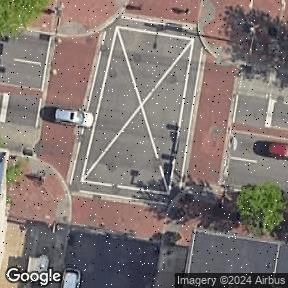vegetation: (0, 0, 47, 36), (5, 161, 22, 184)
